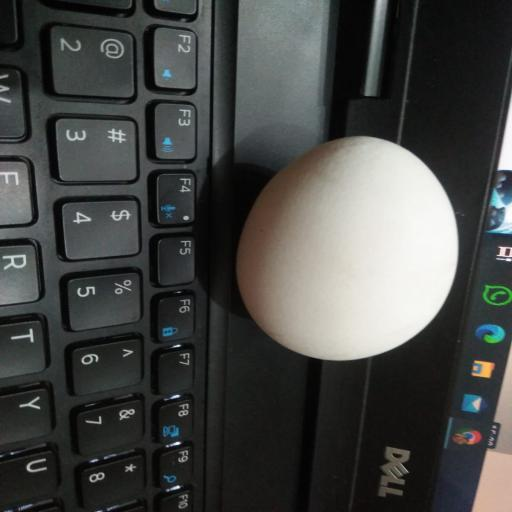telur: (236, 136, 458, 361)
